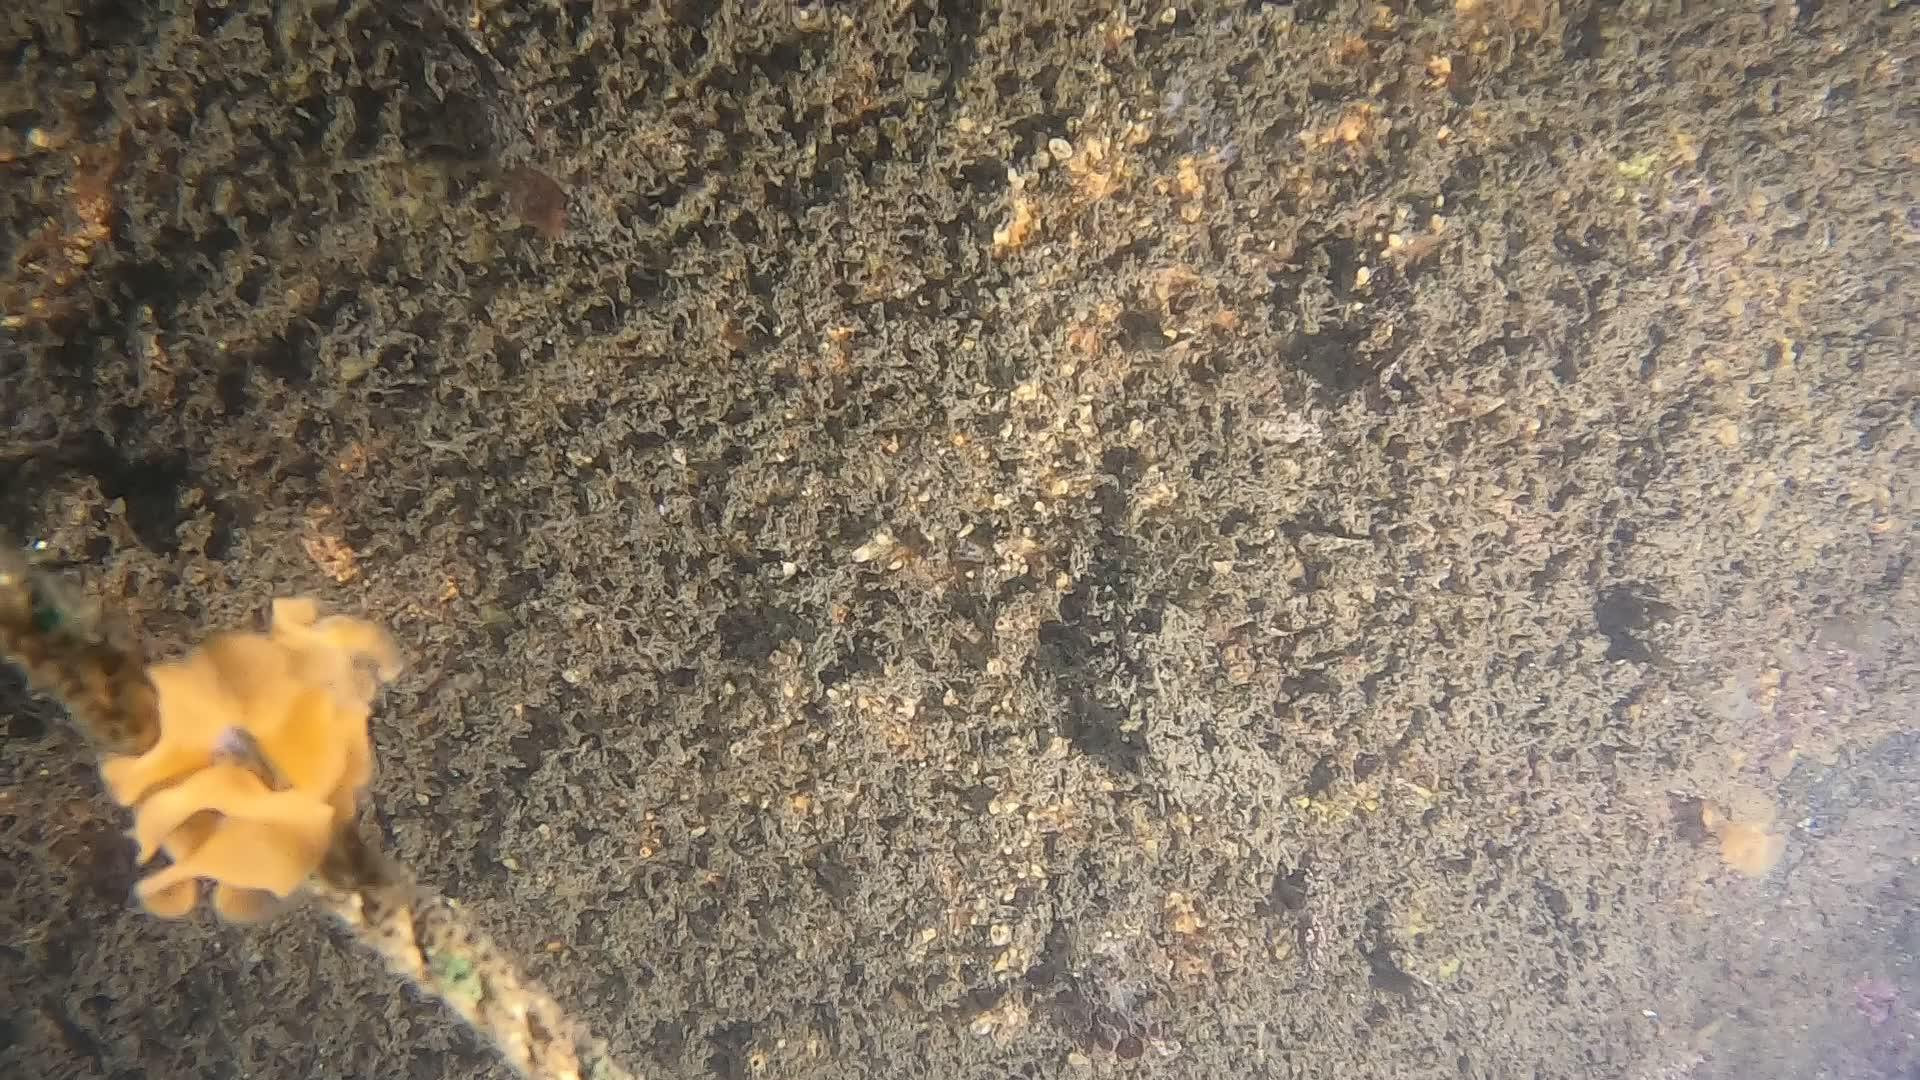rope: (0, 545, 640, 1080)
